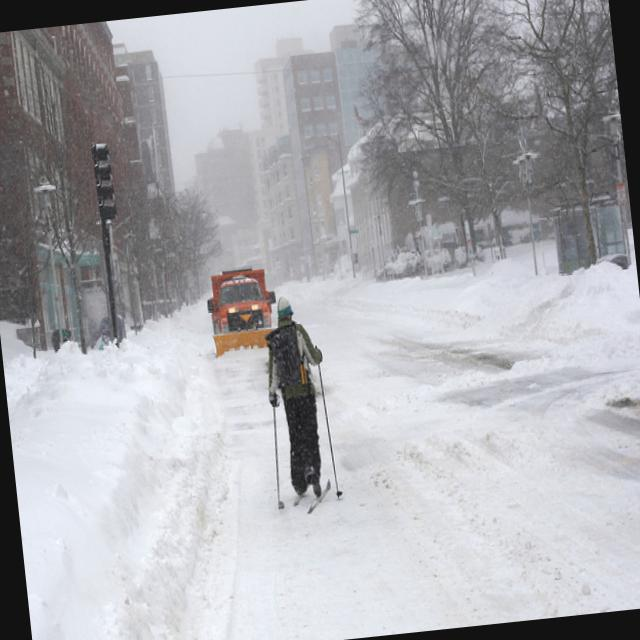Vehicle: (203, 263, 282, 358)
